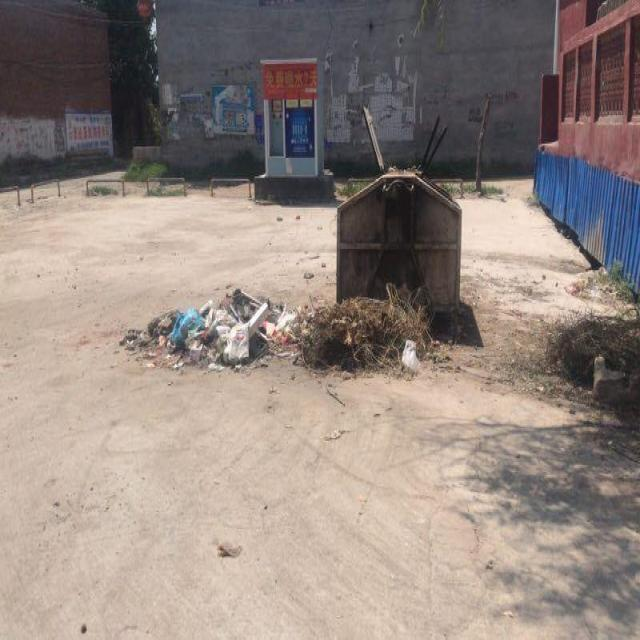garbage: (124, 289, 440, 374)
garbage_bin: (336, 171, 462, 307)
